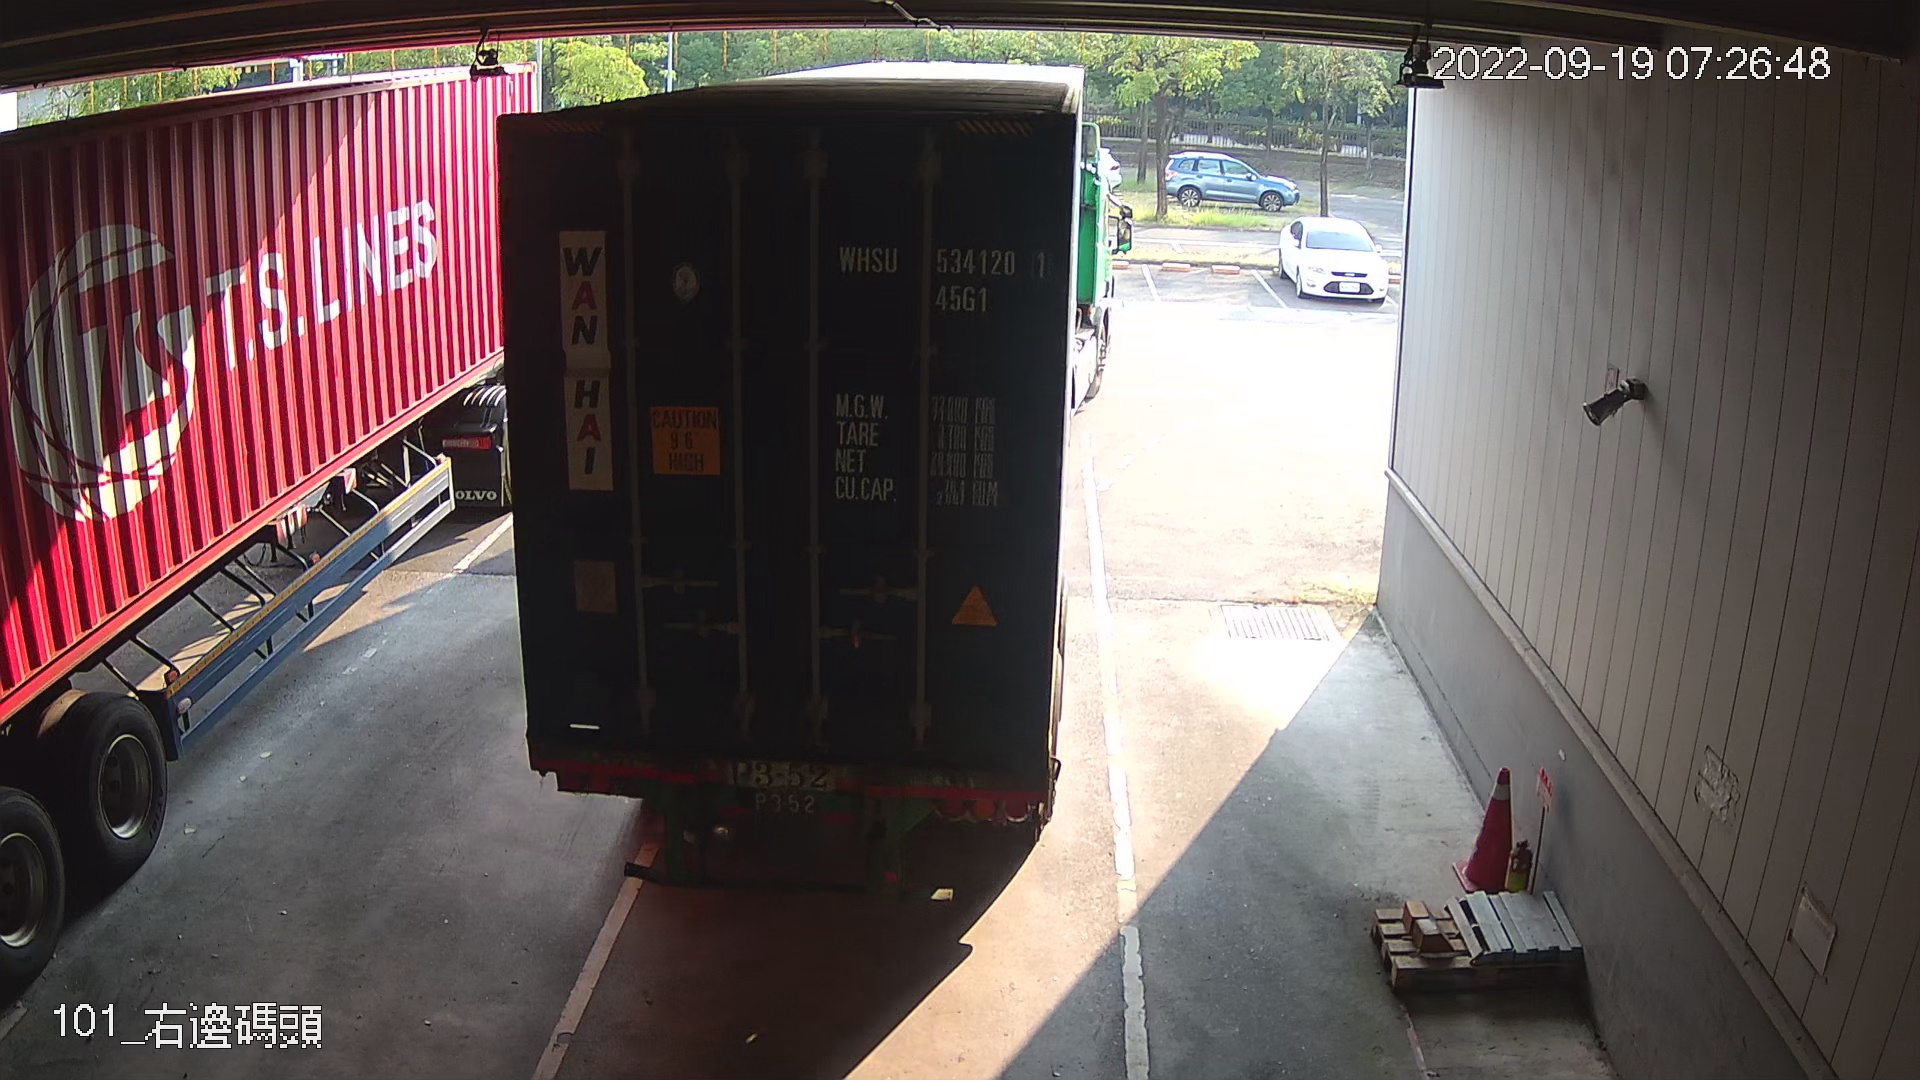container: (831, 233, 1056, 324)
